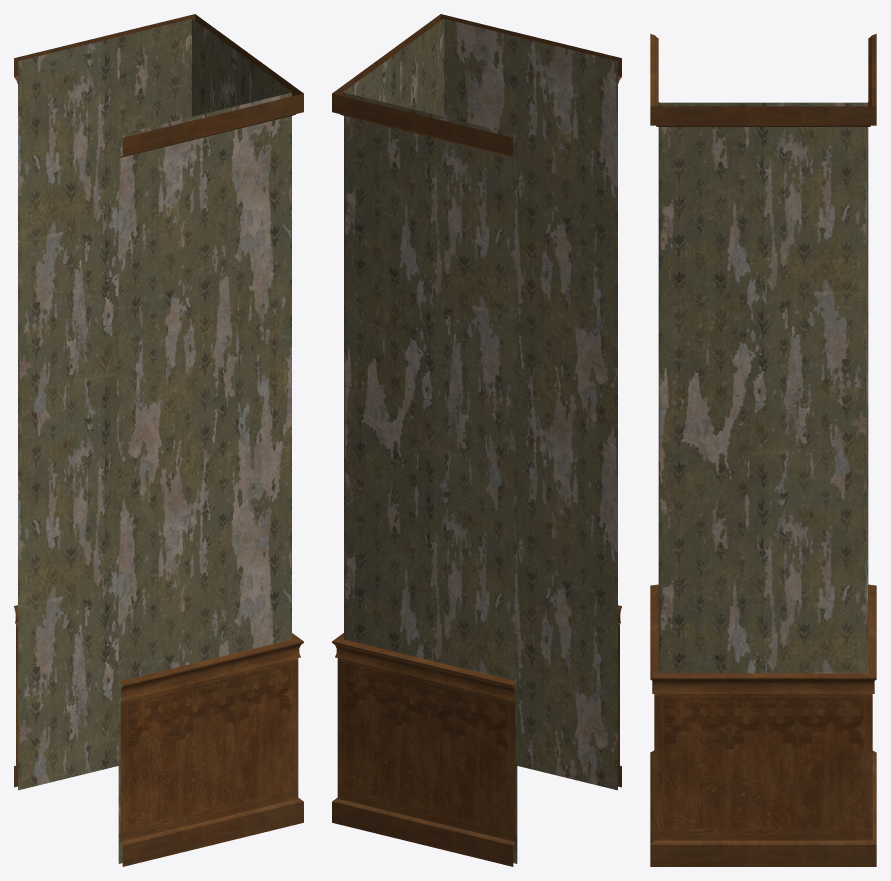
The model's file is SM_Wall_Paper_1g.fbx.
3 views of the same model, side by side, from view 1: azimuth 30°, elevation 25°; view 2: azimuth 150°, elevation 25°; view 3: azimuth 270°, elevation 25° (orthographic). The views are drawn at different scales.
Visible parts, largest first — view 1: SM_Wall_Paper_1g; view 2: SM_Wall_Paper_1g; view 3: SM_Wall_Paper_1g.
Boxes of the visible parts, x1,y1,x2,y2 form: SM_Wall_Paper_1g: (14,14,303,866); SM_Wall_Paper_1g: (332,14,621,866); SM_Wall_Paper_1g: (650,33,876,866).
Bounding box in the file's own units: 104 × 400 × 108.
